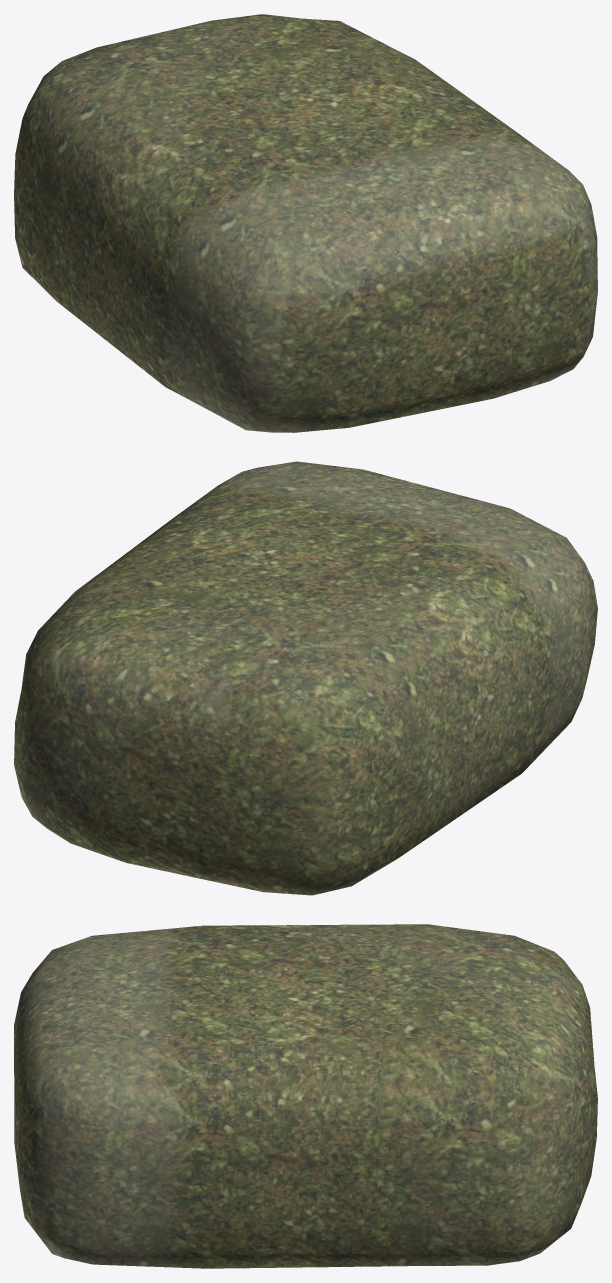
File: weed-brick.glb
The picture shows the model from 3 angles, top to bottom: view 1: azimuth 30°, elevation 25°; view 2: azimuth 150°, elevation 25°; view 3: azimuth 270°, elevation 25°; orthographic projection.
Visible parts, largest first — view 1: Weed Brick; view 2: Weed Brick; view 3: Weed Brick.
Boxes of the visible parts, x1,y1,x2,y2 form: Weed Brick: [14, 14, 597, 432]; Weed Brick: [14, 461, 597, 895]; Weed Brick: [14, 924, 597, 1268].
Size of the model in its own units: 0.2732 by 0.1542 by 0.3675.
1 material, 1 textured.
